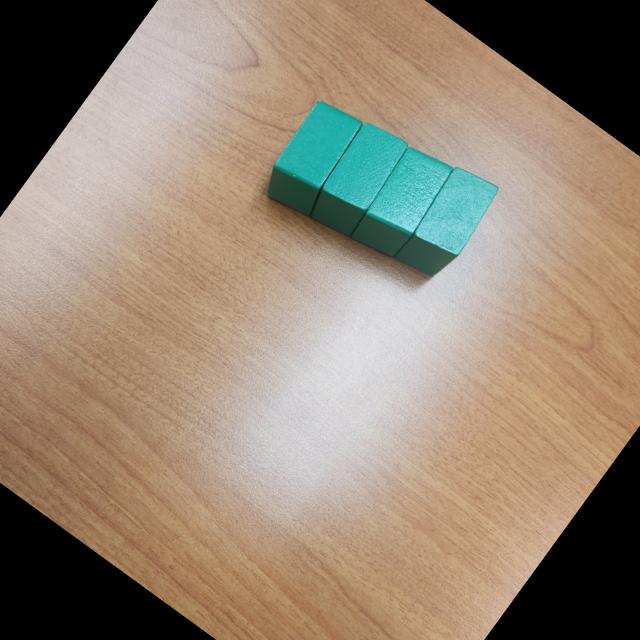green: (255, 92, 372, 222), (298, 115, 414, 244), (390, 159, 504, 288), (344, 138, 458, 267)
